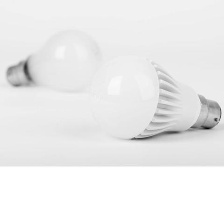light_bulb: (84, 51, 223, 143), (3, 24, 106, 95)
